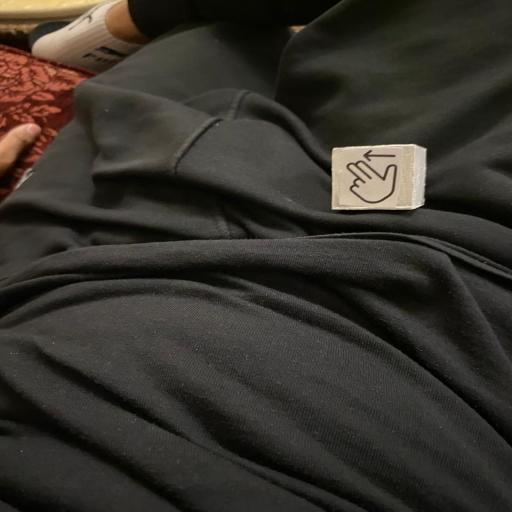LeftSwipe: (331, 142, 428, 211)
